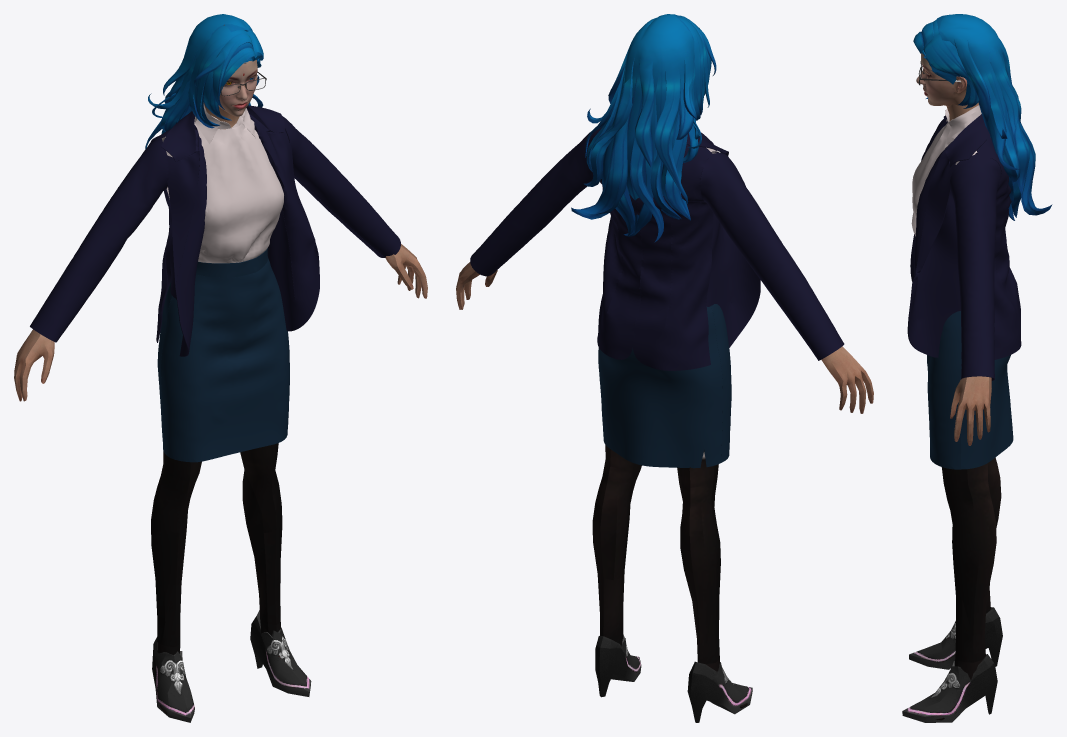
The model's file is female1.glb.
3 views of the same model, side by side, from view 1: azimuth 30°, elevation 25°; view 2: azimuth 150°, elevation 25°; view 3: azimuth 270°, elevation 25° (orthographic).
Parts seen in each view (by area): view 1: Object_8, Object_3, Object_11, Object_2, Object_9, Object_4, Object_7; view 2: Object_8, Object_9, Object_3, Object_11, Object_4, Object_7; view 3: Object_8, Object_9, Object_11, Object_3, Object_4, Object_7, Object_2.
Boxes of the visible parts, x1,y1,x2,y2 form: Object_8: (30,105,400,356); Object_3: (157,248,289,462); Object_11: (151,443,282,713); Object_2: (162,104,283,263); Object_9: (145,14,263,149); Object_4: (152,610,311,722); Object_7: (14,24,427,401); Object_8: (470,127,844,370); Object_9: (571,14,716,242); Object_3: (598,304,731,468); Object_11: (592,445,747,708); Object_4: (595,634,752,722); Object_7: (456,262,873,413); Object_8: (907,114,1021,380); Object_9: (913,14,1052,220); Object_11: (935,457,1001,720); Object_3: (927,311,1013,469); Object_4: (902,607,1002,722); Object_7: (916,53,991,445); Object_2: (911,105,981,236).
Bounding box in the file's own units: 63.43 × 100 × 20.32.
12 materials, 4 textured.
